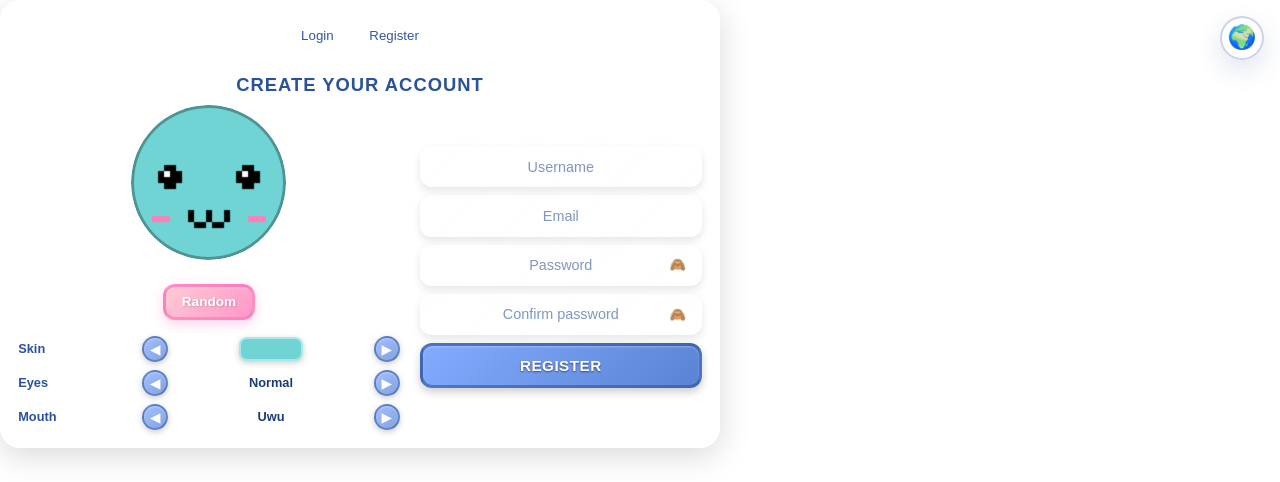
AuthMenu › cycles avatar feature selectors in register mode
Expected: the text "normal" is shown, [249,375,293,390]
Expected: the text "uwu" is shown, [258,409,284,424]
Click the button with class "feature-arrow" in the row of "Skin" at (387, 348), box [374,336,400,362]
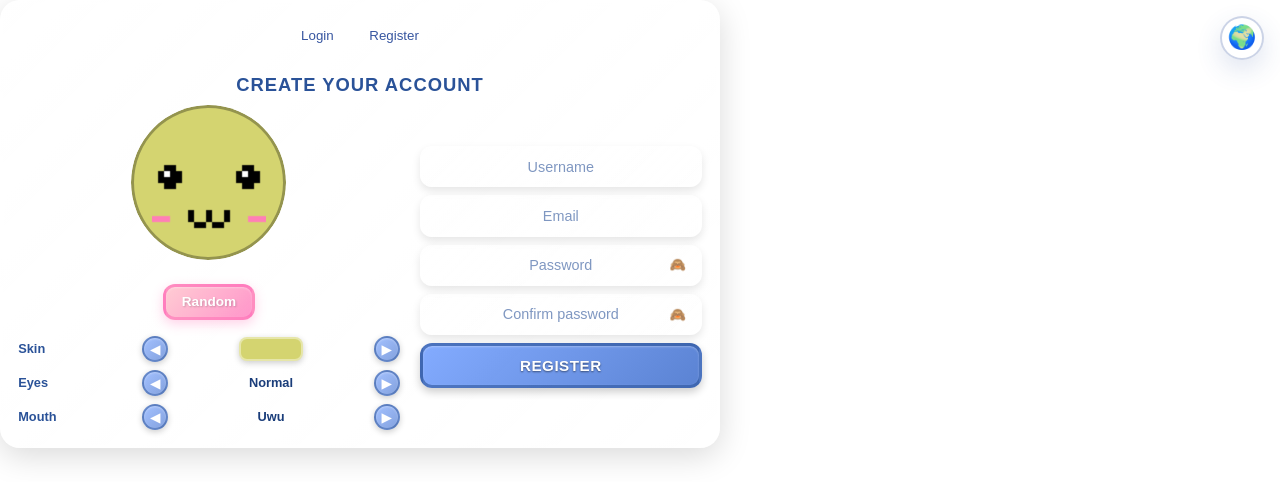
Click the button with class "feature-arrow" next to "normal" at (155, 382), box [142,370,168,396]
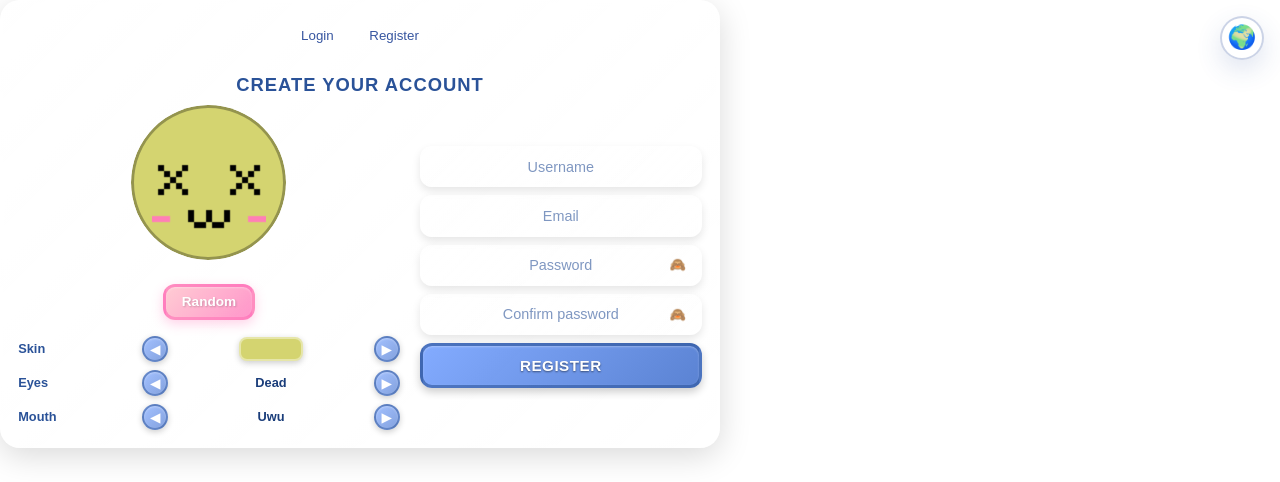
Click the button with class "feature-arrow" next to "dead" at (387, 382), box [374,370,400,396]
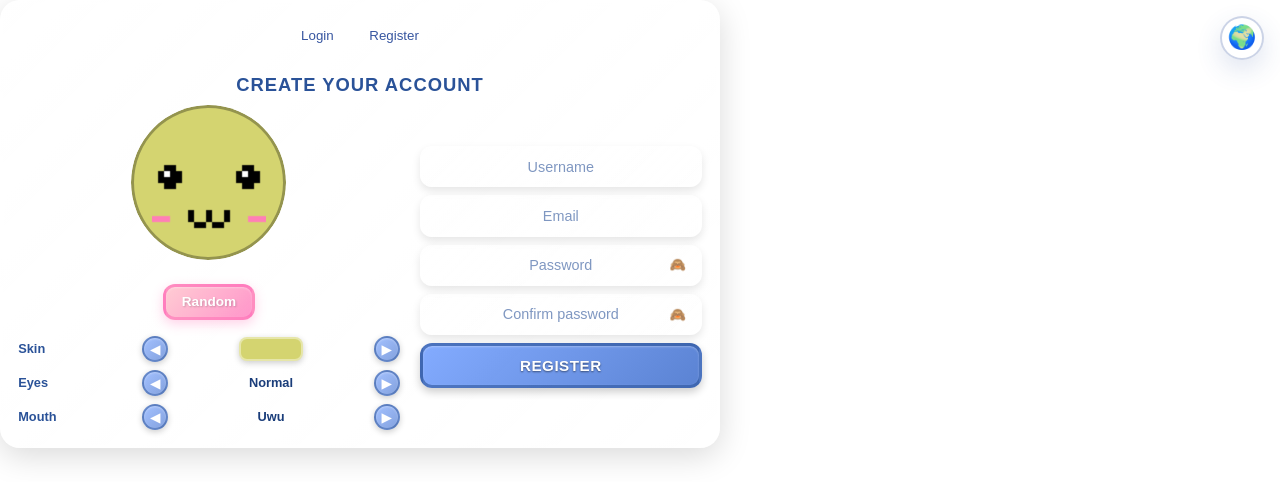
Click the button with class "feature-arrow" next to "uwu" at (155, 416), box [142,404,168,430]
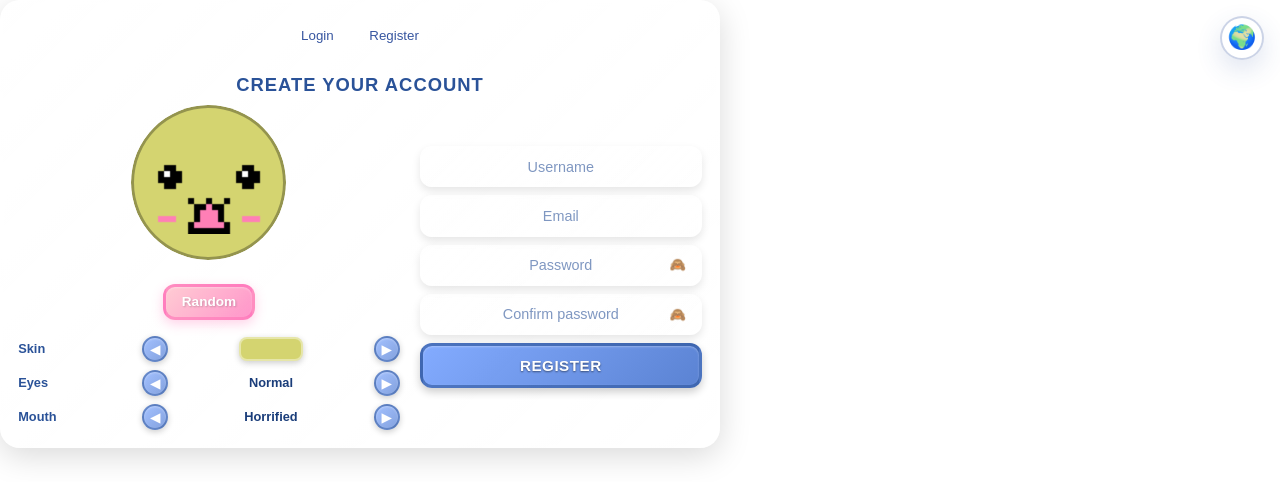
Click the button with class "feature-arrow" next to "horrified" at (387, 416), box [374,404,400,430]
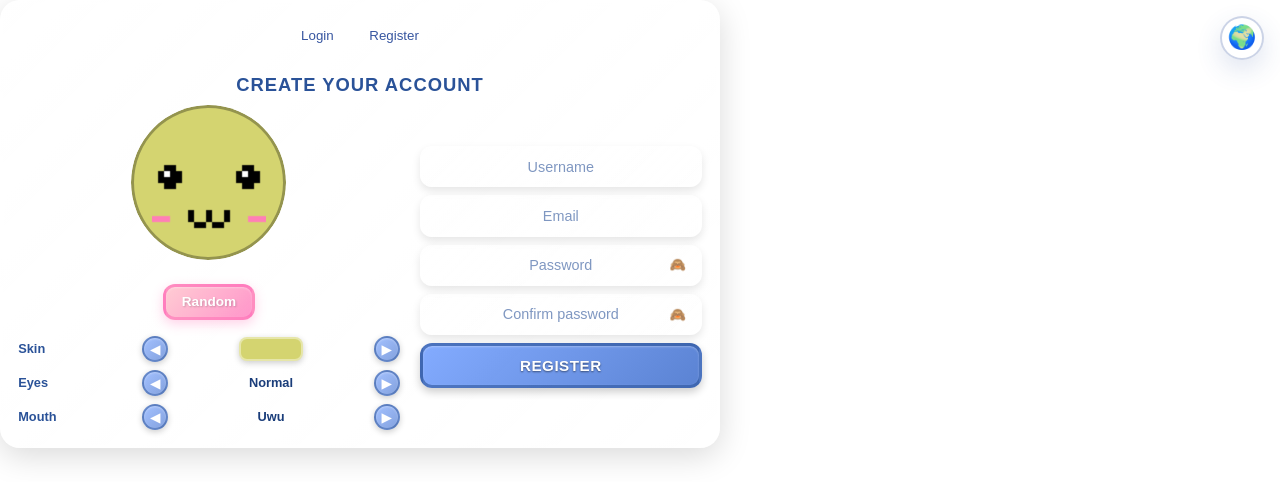
Now the text "normal" is shown, box [249,375,293,390]
Now the text "uwu" is shown, box [258,409,284,424]
